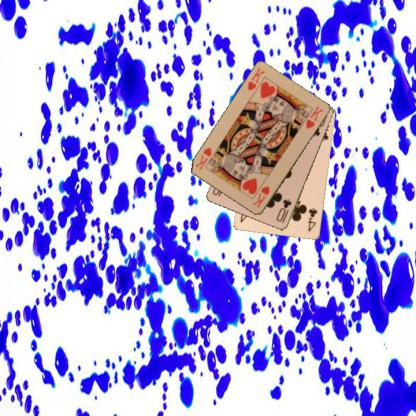10c: (274, 197, 293, 224)
4c: (305, 205, 318, 233)
Kh: (245, 65, 266, 93), (250, 183, 270, 209)
